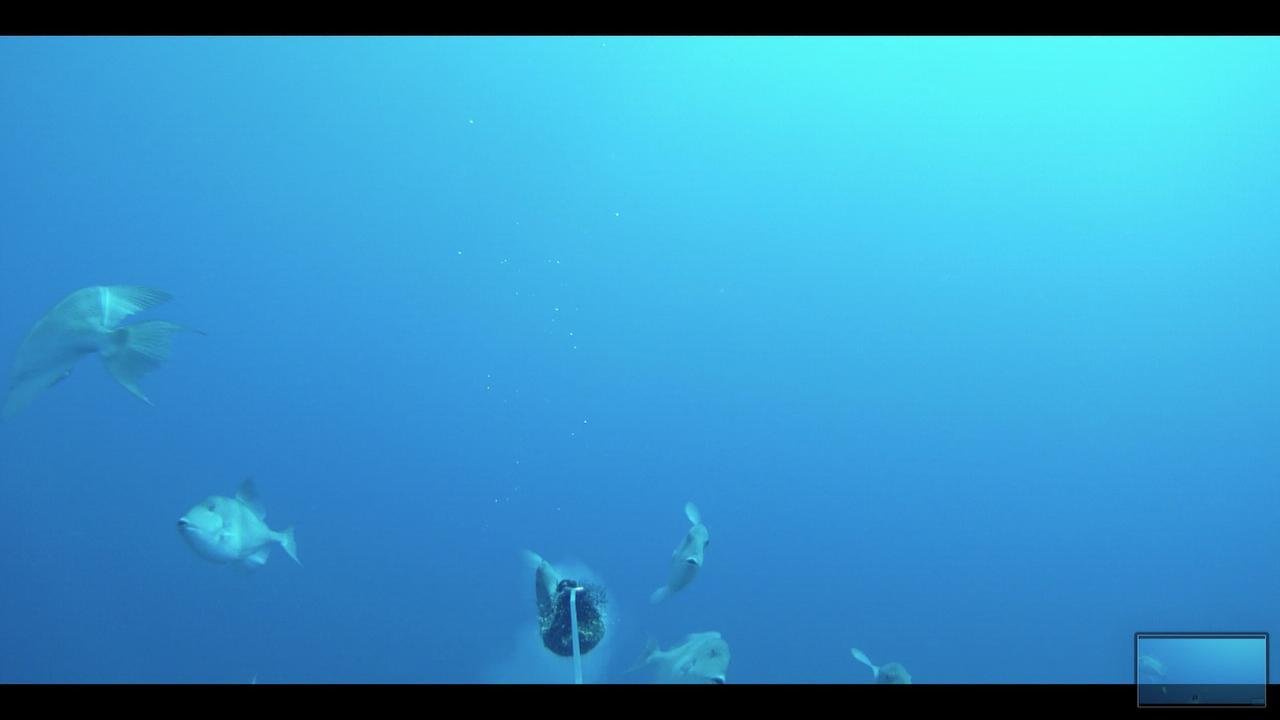balistes: (172, 474, 316, 567), (652, 492, 713, 607), (631, 630, 738, 683)
